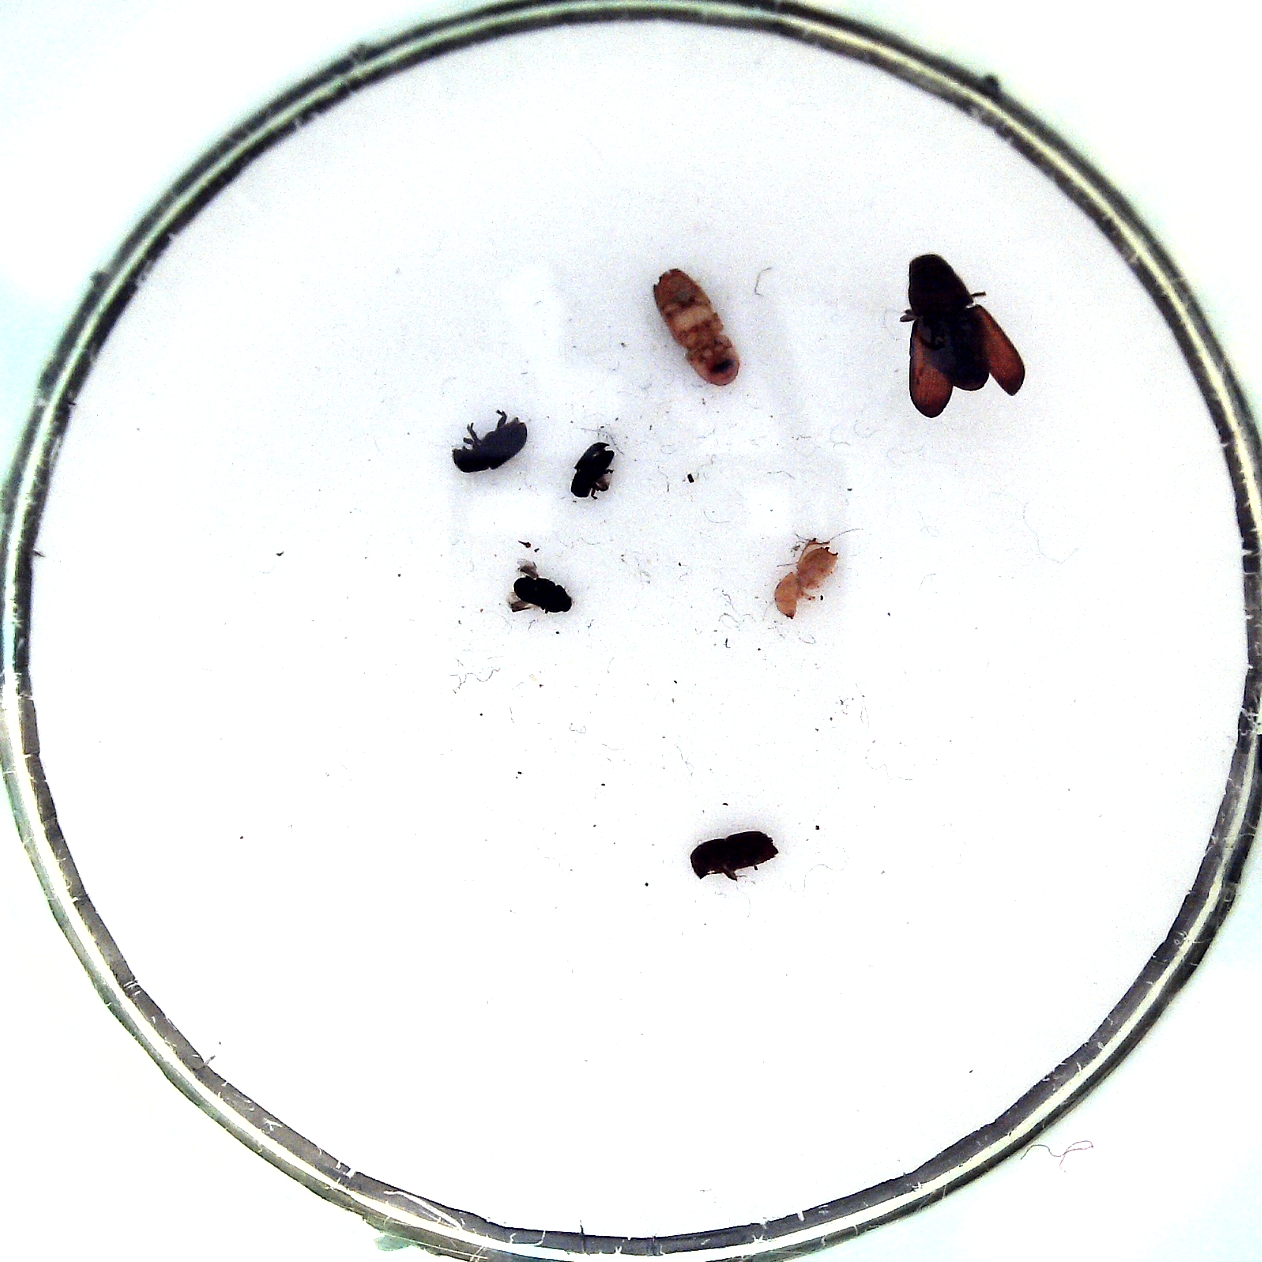Boerner: (653, 268, 741, 386)
Leconte: (907, 251, 990, 391)
acuminatus: (513, 576, 572, 615)
armandi: (453, 418, 528, 472)
coleoptera: (570, 441, 614, 497)
linnaeus: (773, 539, 839, 619), (690, 830, 777, 879)
